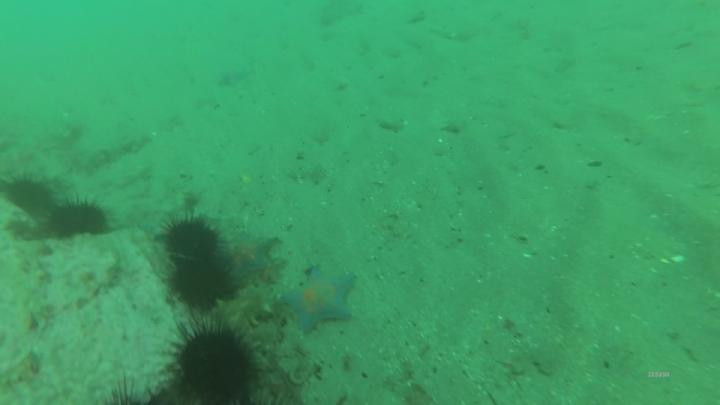echinus: (182, 330, 254, 395), (177, 261, 228, 308), (161, 221, 220, 260), (54, 204, 106, 234), (8, 181, 54, 212)
starfish: (282, 267, 352, 333), (225, 235, 278, 273)
